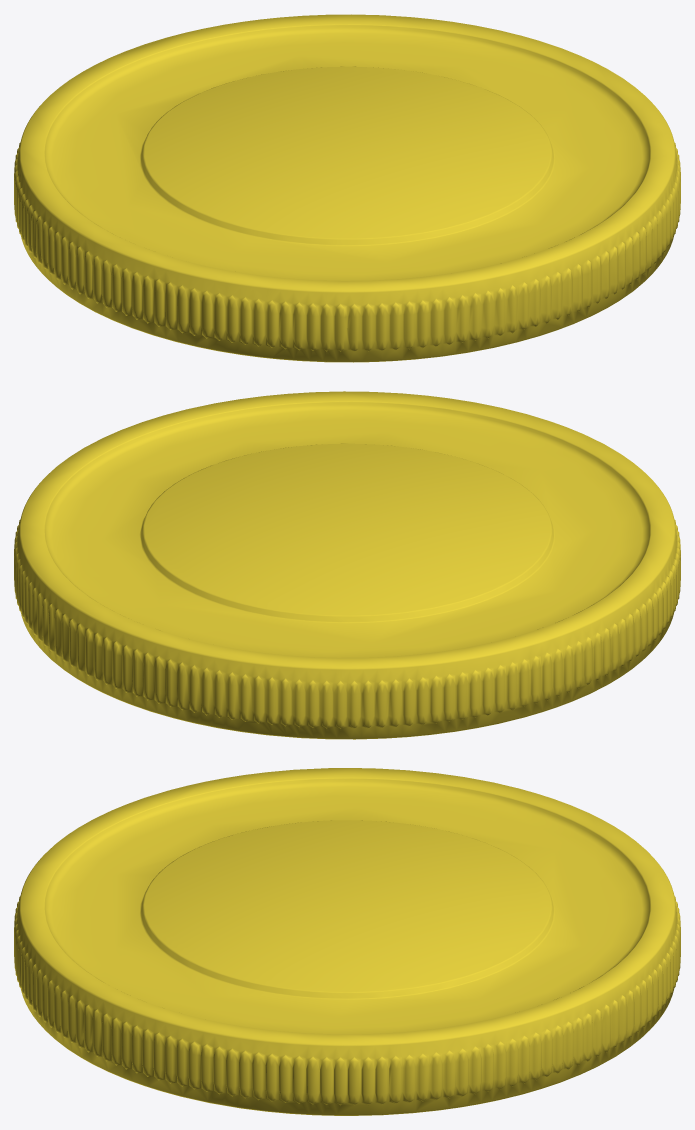
The model's file is coin.fbx.
3 renders of one model, top to bottom at view 1: azimuth 30°, elevation 25°; view 2: azimuth 150°, elevation 25°; view 3: azimuth 270°, elevation 25°, orthographic.
Parts seen in each view (by area): view 1: Cylinder311; view 2: Cylinder311; view 3: Cylinder311.
Part boxes in pixels (bbox=[...]): Cylinder311: bbox=[14, 14, 680, 362]; Cylinder311: bbox=[14, 391, 680, 739]; Cylinder311: bbox=[14, 768, 680, 1115].
Size of the model in its own units: 1208 by 144 by 1208.
